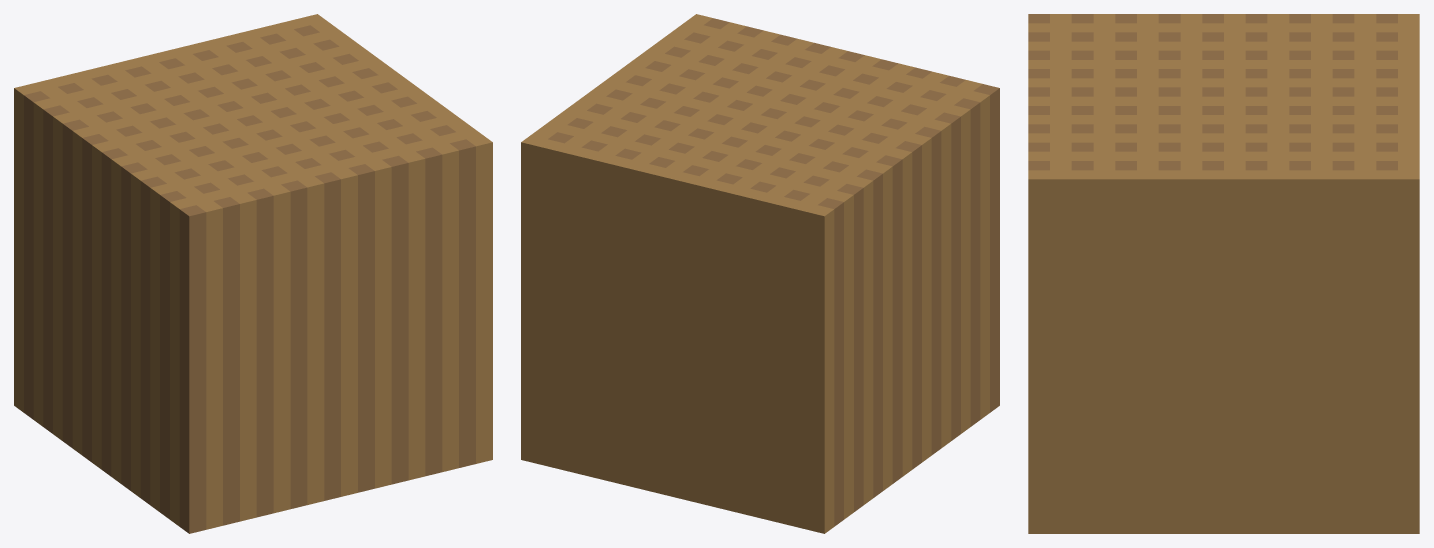
File: floor_1.obj
3 views of the same model, side by side, from view 1: azimuth 30°, elevation 25°; view 2: azimuth 150°, elevation 25°; view 3: azimuth 270°, elevation 25° (orthographic). The views are drawn at different scales.
Bounding box in the file's own units: 1.8 × 1.8 × 1.8.
1 material, 1 textured.
